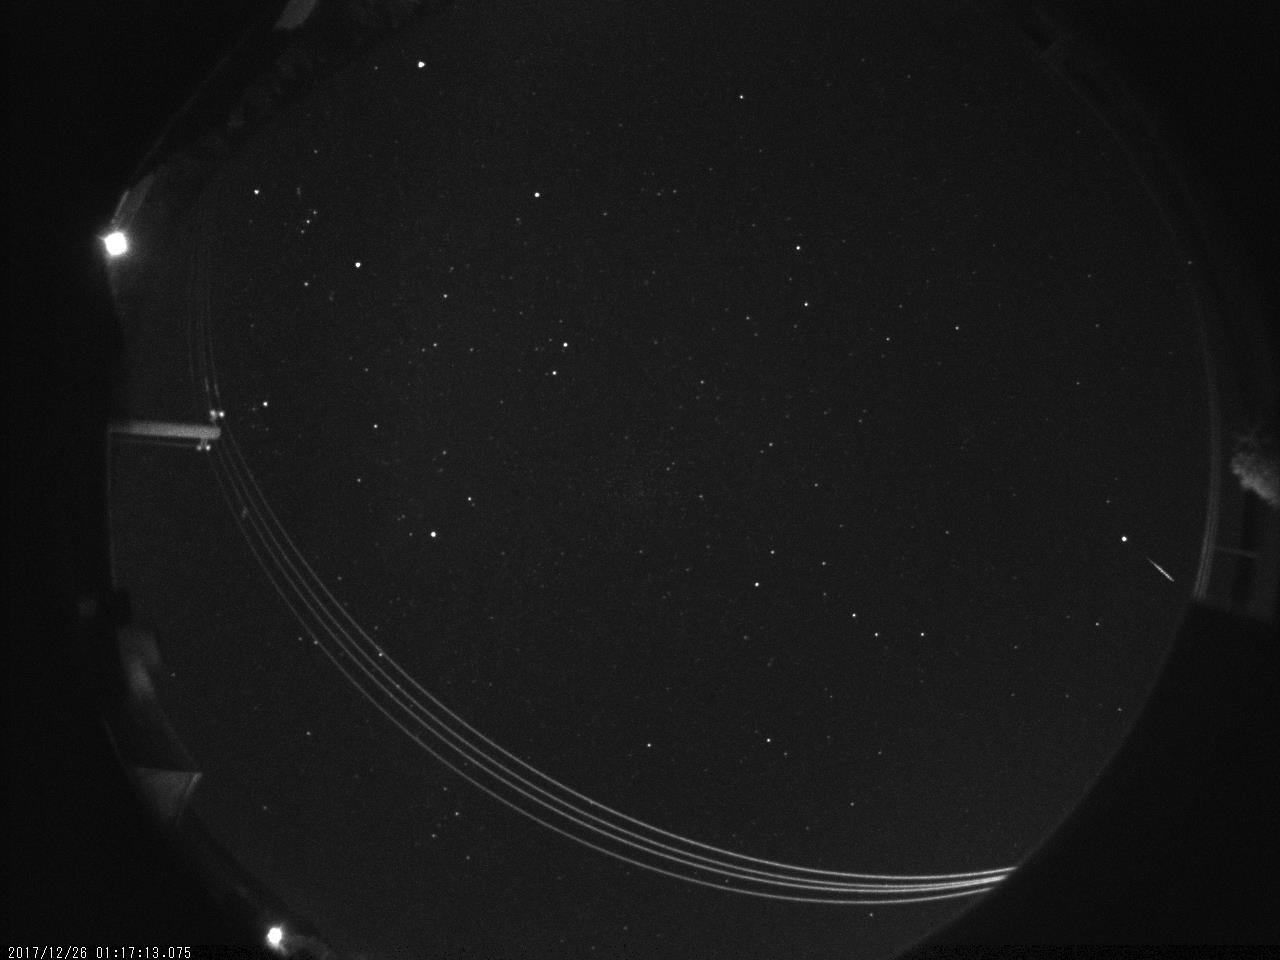meteor: (1136, 541, 1191, 609)
